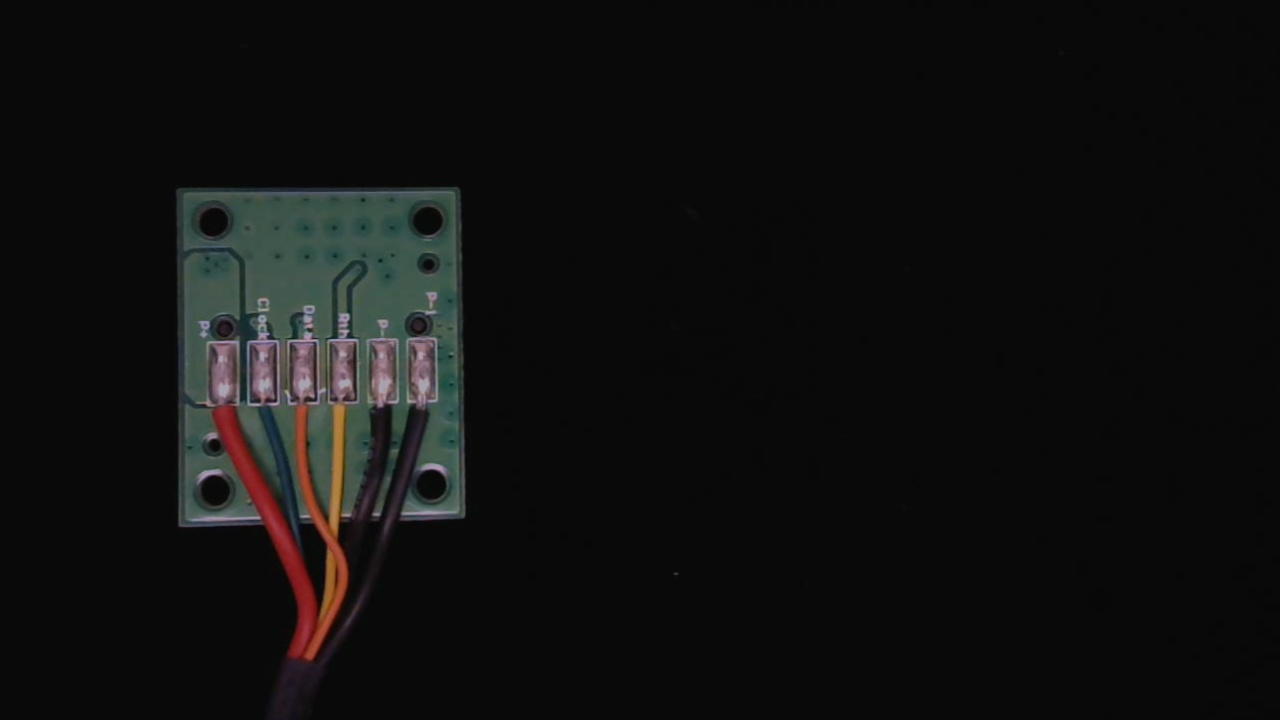Black: (368, 389, 399, 448)
Black1: (408, 387, 438, 447)
Green: (246, 389, 280, 446)
Orange: (290, 389, 317, 449)
Red: (206, 389, 239, 451)
Yellow: (327, 389, 359, 452)
